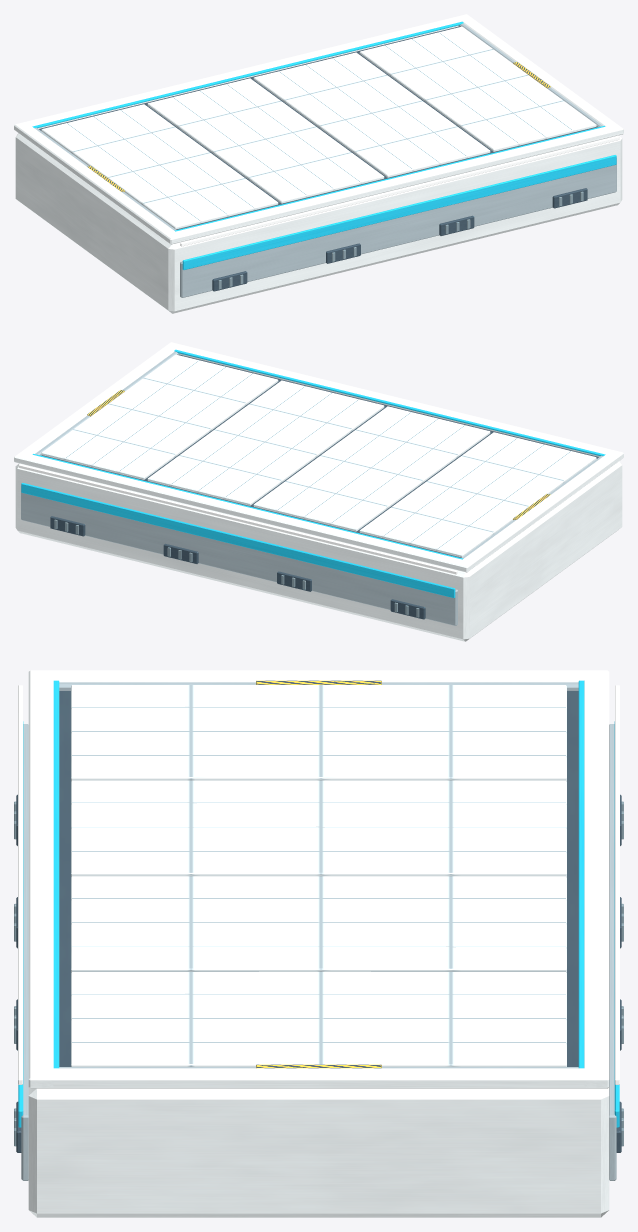
The model's file is ground-panel-4m.glb.
3 renders of one model, top to bottom at view 1: azimuth 30°, elevation 25°; view 2: azimuth 150°, elevation 25°; view 3: azimuth 270°, elevation 25°, orthographic. The views are drawn at different scales.
Visible parts, largest first — view 1: ground-panel-4m; view 2: ground-panel-4m; view 3: ground-panel-4m.
Boxes of the visible parts, <box> form: ground-panel-4m: <box>14,14,623,313</box>; ground-panel-4m: <box>14,342,623,641</box>; ground-panel-4m: <box>14,670,623,1217</box>.
Size of the model in its own units: 4 by 0.65 by 2.52.
Materials: 1 (1 with a texture image).
